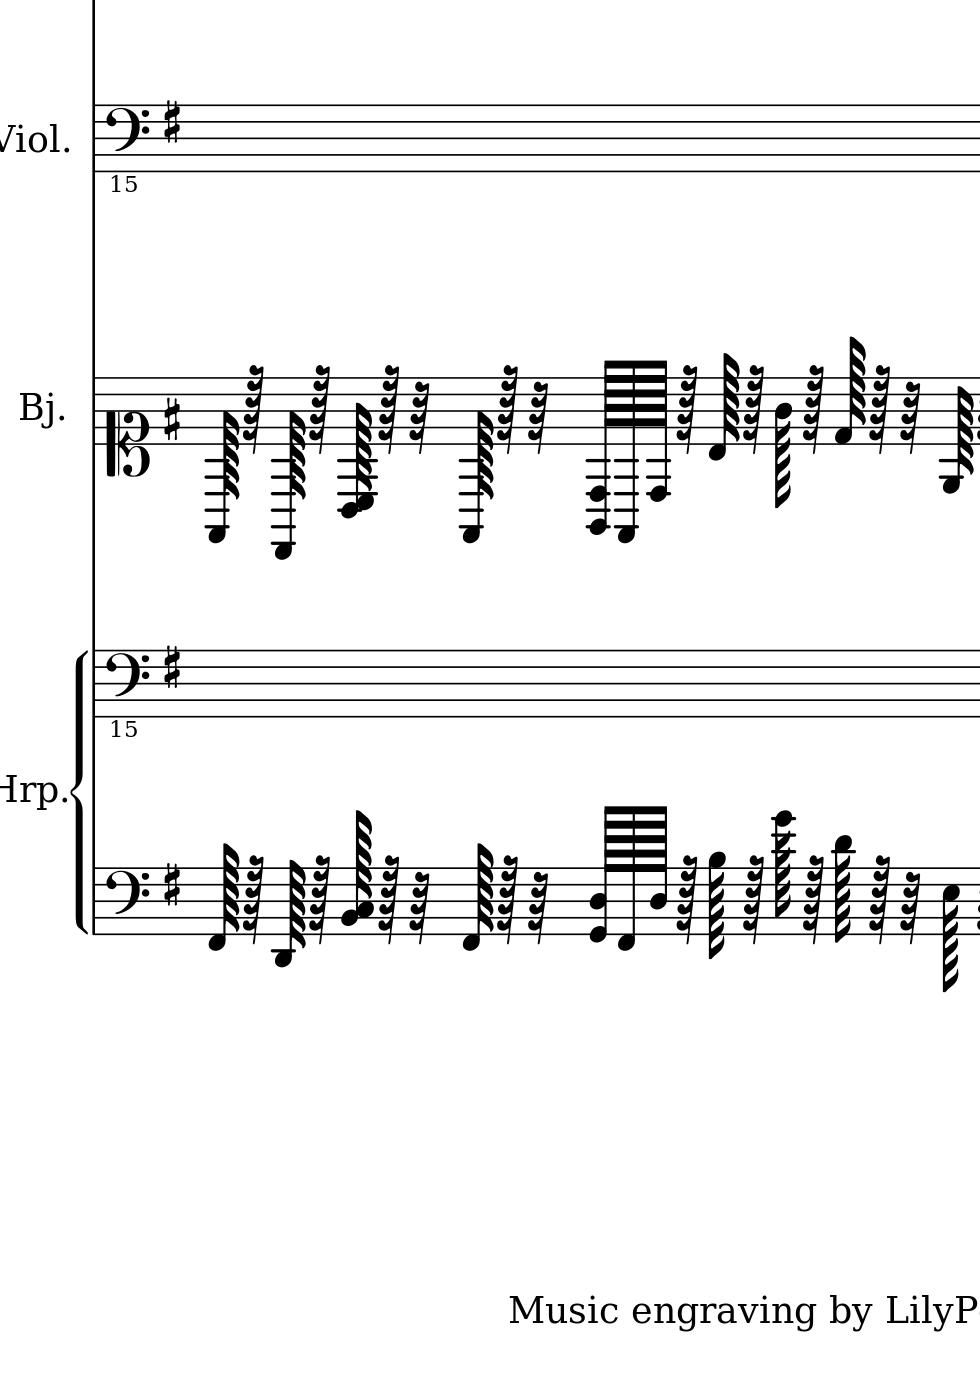128_-1: (205, 843, 240, 952), (461, 842, 495, 952), (707, 353, 741, 460), (617, 804, 638, 952)
128_-3: (272, 859, 307, 967)
128_-5: (940, 376, 975, 493)
128_-6: (645, 359, 673, 503)
128_1: (834, 336, 870, 444)
128_11: (832, 834, 854, 943)
128_14: (771, 808, 795, 936)
128_4: (649, 804, 670, 937), (774, 376, 793, 507)
128_5: (941, 865, 961, 993)
128_9: (707, 850, 728, 959)
DLower_Fclef: (103, 102, 154, 198), (102, 647, 151, 743)
Fclef: (102, 866, 150, 938)
Hrp: (1, 770, 59, 814)
Rests128: (242, 363, 265, 453), (309, 364, 332, 454), (673, 364, 697, 454), (802, 364, 825, 454), (867, 364, 890, 454), (242, 853, 265, 943), (308, 853, 331, 943), (378, 852, 401, 942), (675, 853, 698, 943), (800, 855, 823, 945), (868, 855, 891, 945), (377, 363, 399, 453), (495, 364, 518, 454), (742, 363, 765, 453), (496, 853, 519, 943), (742, 854, 765, 944)
Rests64: (526, 872, 552, 945), (407, 380, 432, 453), (527, 381, 552, 454), (898, 381, 923, 454), (897, 871, 922, 944), (406, 872, 431, 945)
Sharp: (158, 641, 183, 694), (158, 95, 183, 147), (158, 860, 183, 911), (158, 392, 182, 444)
Single_barline: (85, 378, 102, 444), (87, 650, 103, 717), (87, 104, 102, 172), (87, 869, 102, 935)
Soprano_Cclef: (103, 373, 153, 479)
